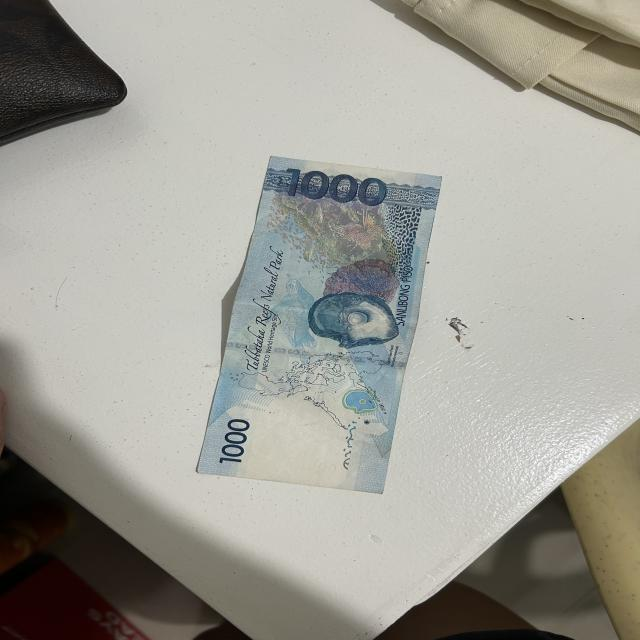1000_pearl: (304, 290, 398, 350)
1000_pearl_watermark: (342, 388, 379, 416)
